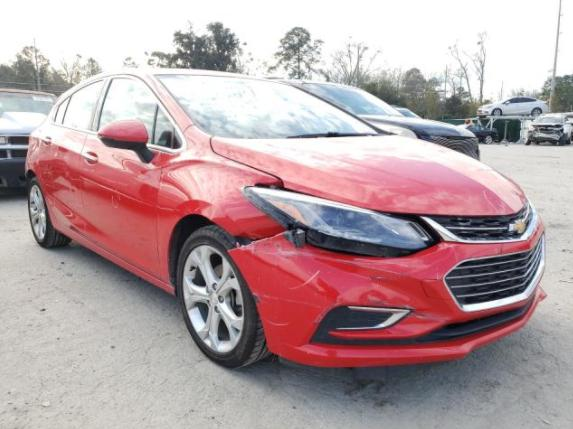Back-door: (37, 73, 108, 239)
Back-wheel: (28, 176, 73, 249)
Back-window: (53, 75, 106, 127)
Fender: (157, 125, 287, 286)
Front-bumper: (227, 214, 548, 381)
Front-door: (79, 75, 189, 281)
Front-wheel: (175, 224, 274, 370)
Front-window: (99, 78, 156, 144), (155, 104, 182, 148)
Grille: (441, 230, 546, 314), (418, 197, 539, 244)
Headlight: (240, 185, 443, 258)
Hood: (210, 135, 528, 216)
Mirror: (97, 119, 154, 164)
Quarter-panel: (24, 117, 51, 181)
Rocker-panel: (49, 210, 177, 297)
Roof: (133, 67, 255, 77)
Windshield: (154, 74, 395, 139)
